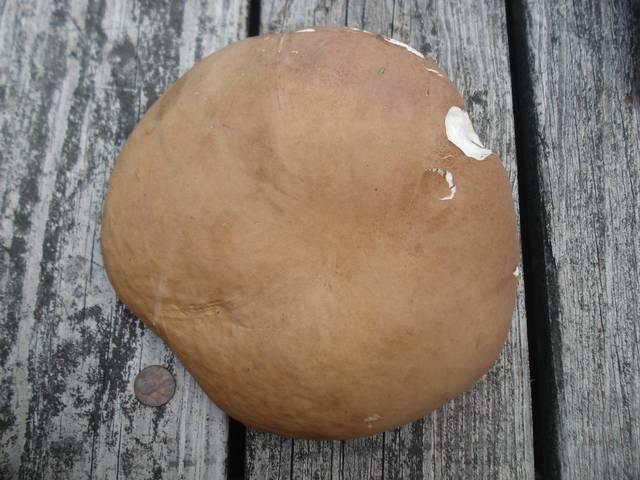poisonous_mushroom: (98, 24, 523, 441)
